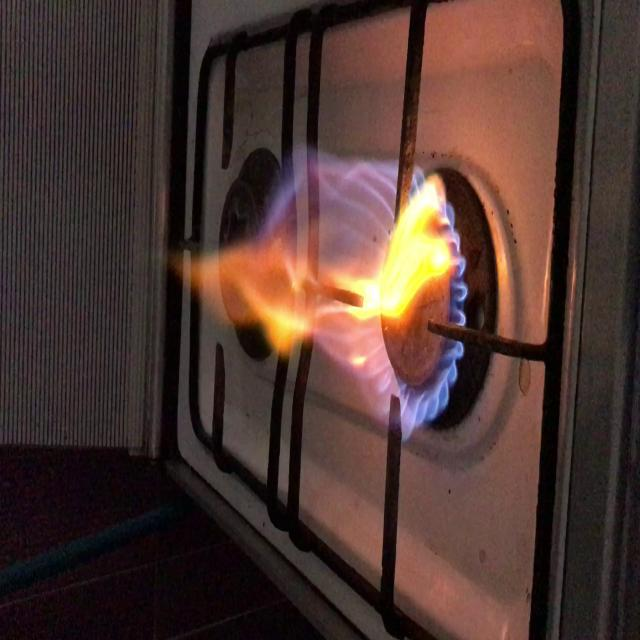fire: (214, 156, 468, 445)
